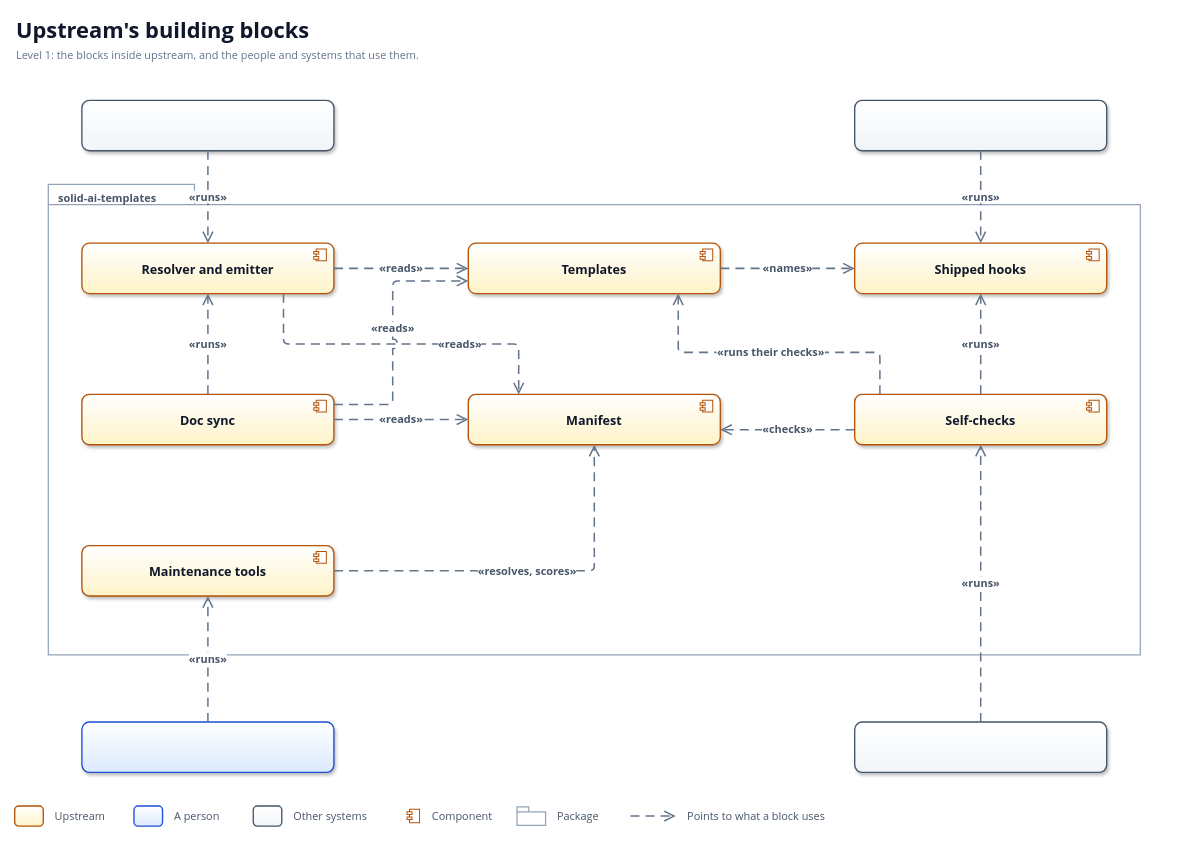
This 1189x841 diagram has some shape labels left out. Each missing label, with the centre of its shape:
"CI" goes at point 981,748.
"Coding agent" goes at point 208,126.
"Maintainer" goes at point 208,748.
"pre-commit, in a project's CI" goes at point 981,126.
